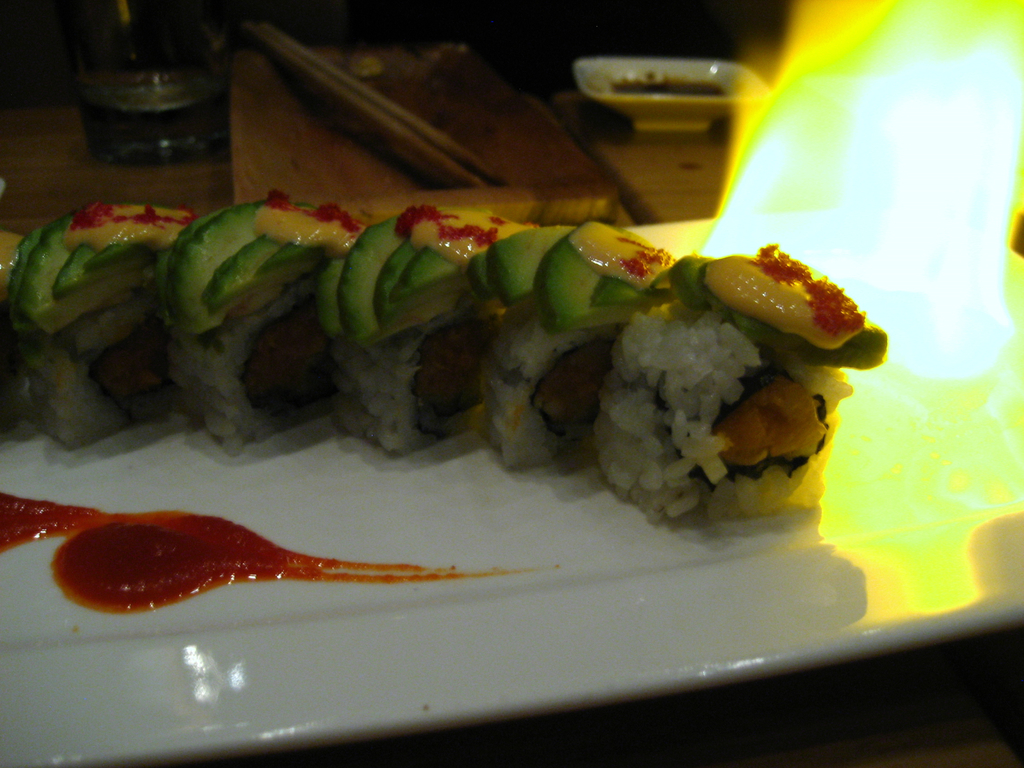sushi: (0, 203, 883, 527), (578, 260, 891, 514)
